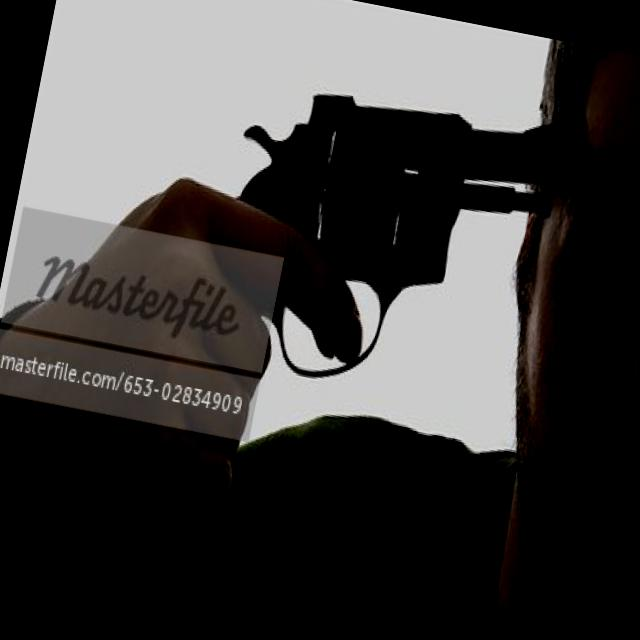handgun: (143, 32, 618, 460)
